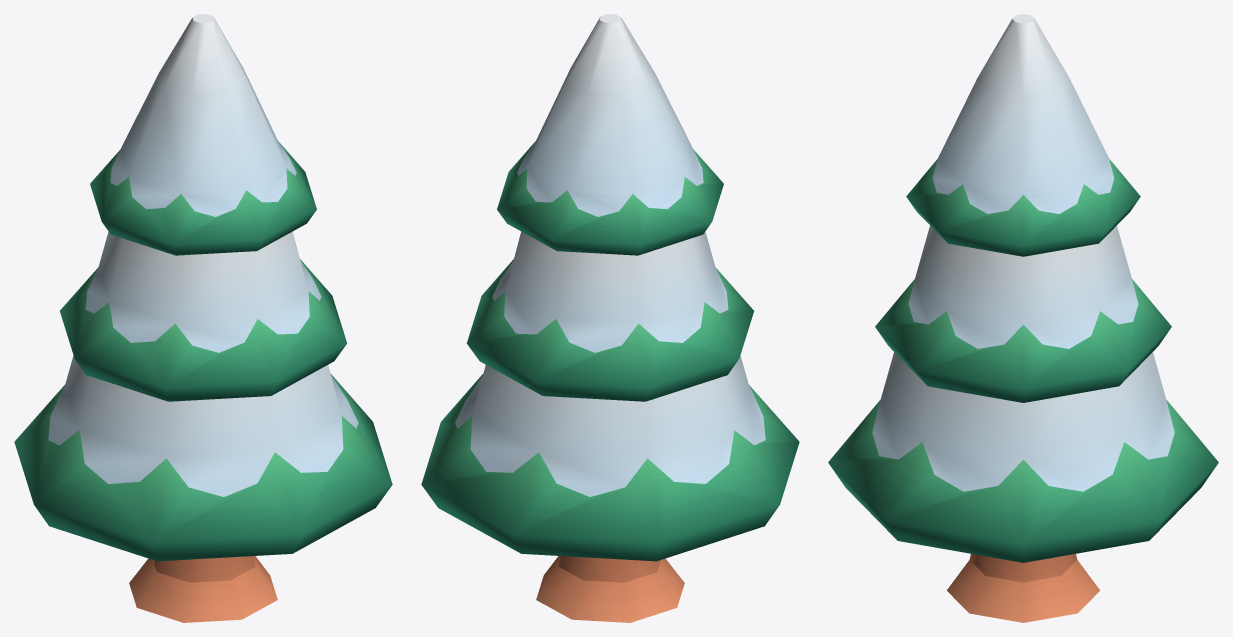
File: pine_0.fbx
3 renders of one model, left to right at view 1: azimuth 30°, elevation 25°; view 2: azimuth 150°, elevation 25°; view 3: azimuth 270°, elevation 25°, orthographic.
Visible parts, largest first — view 1: pine_0; view 2: pine_0; view 3: pine_0.
Part boxes in pixels (left/top/right/bottom): pine_0: left=14, top=14, right=392, bottom=622; pine_0: left=421, top=14, right=799, bottom=622; pine_0: left=828, top=14, right=1218, bottom=622.
Size of the model in its own units: 1.19 by 1.92 by 1.19.
Materials: 1 (1 with a texture image).
